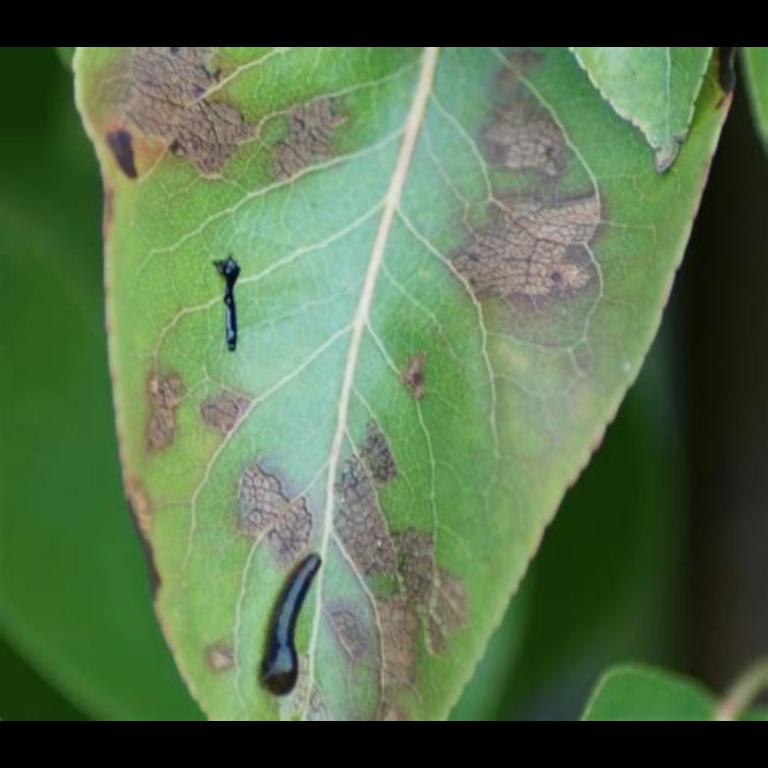blight: (334, 410, 466, 696), (466, 68, 604, 332), (116, 56, 368, 198)
